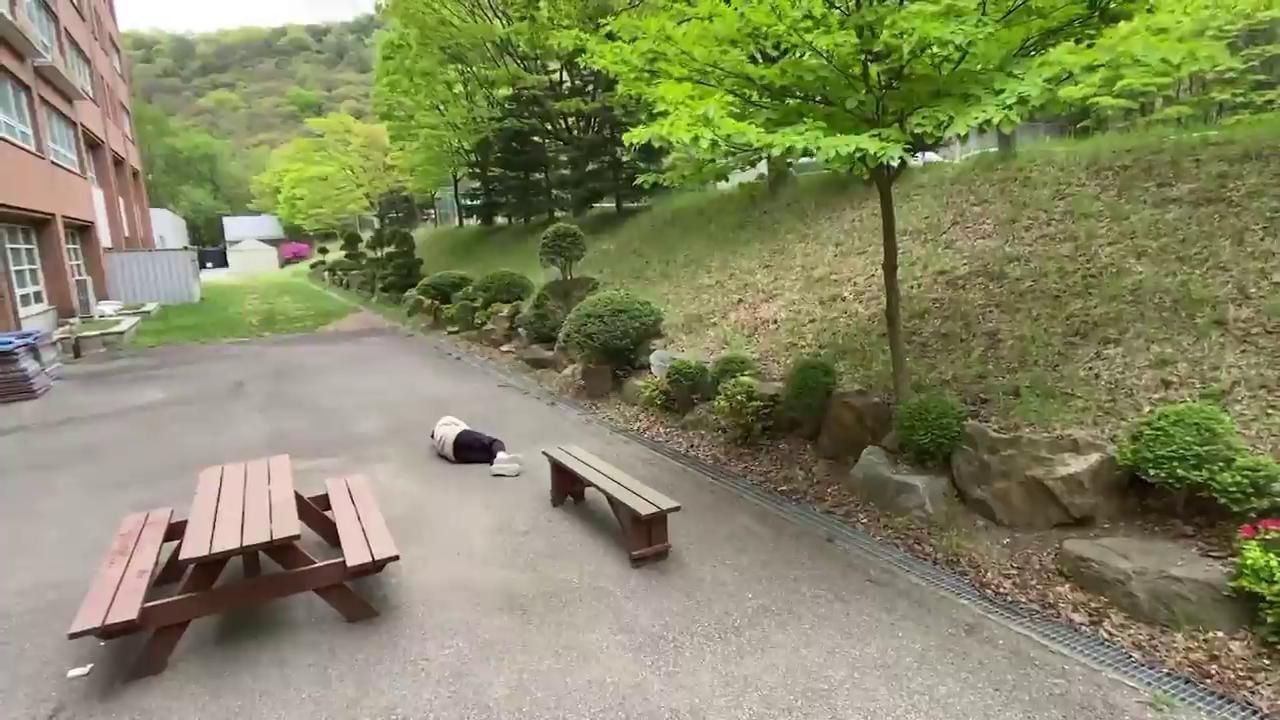faint: (425, 412, 529, 480)
